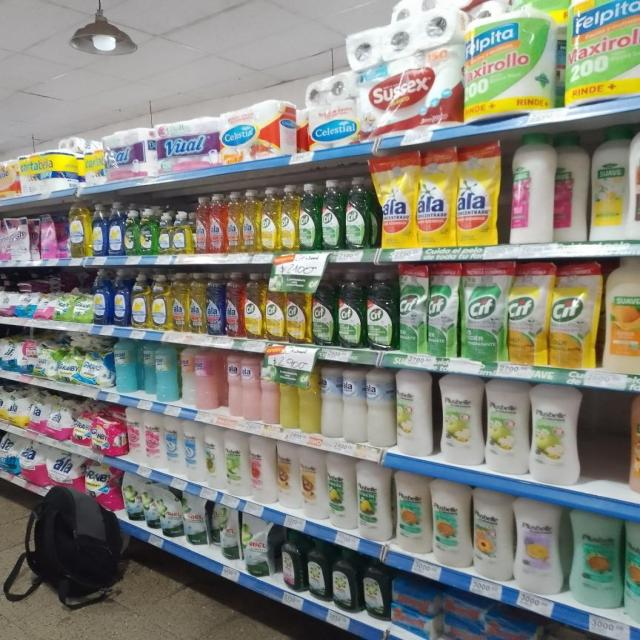ala_conc_amarillo: (242, 189, 260, 253), (188, 272, 205, 334), (171, 272, 188, 332), (226, 190, 242, 253)
ala_conc_azul: (206, 272, 224, 336)
ala_conc_rojo: (225, 271, 242, 338), (209, 193, 225, 254), (194, 195, 208, 254)
ala_crem_blanco: (367, 367, 394, 448), (342, 364, 366, 443)
ala_crem_rosado: (241, 352, 260, 422), (261, 355, 279, 426), (225, 351, 242, 418)
ala_sachet_amarillo: (456, 141, 499, 246), (416, 147, 454, 247), (378, 152, 415, 248)
cif_conc_bot_amarilla: (286, 272, 310, 344), (265, 272, 285, 342), (244, 272, 264, 340), (280, 184, 298, 252), (261, 186, 279, 252)
cif_conc_botella_verde: (366, 270, 397, 351), (338, 269, 364, 349), (345, 177, 371, 250), (312, 269, 336, 347), (321, 180, 343, 250), (299, 182, 320, 252)
cif_conc_sachet_amarillo: (550, 261, 600, 369), (508, 261, 548, 366)
cif_conc_sachet_verde: (461, 261, 506, 362), (428, 262, 460, 357), (398, 262, 426, 355)
heroe: (195, 346, 218, 411), (179, 344, 194, 408)
magistral_con_amarillo: (70, 200, 90, 258), (151, 272, 170, 330), (132, 272, 150, 328), (172, 211, 190, 255), (158, 211, 172, 255)
magistral_con_azul: (112, 268, 130, 326), (93, 268, 111, 325), (91, 202, 108, 257), (108, 202, 124, 256)
